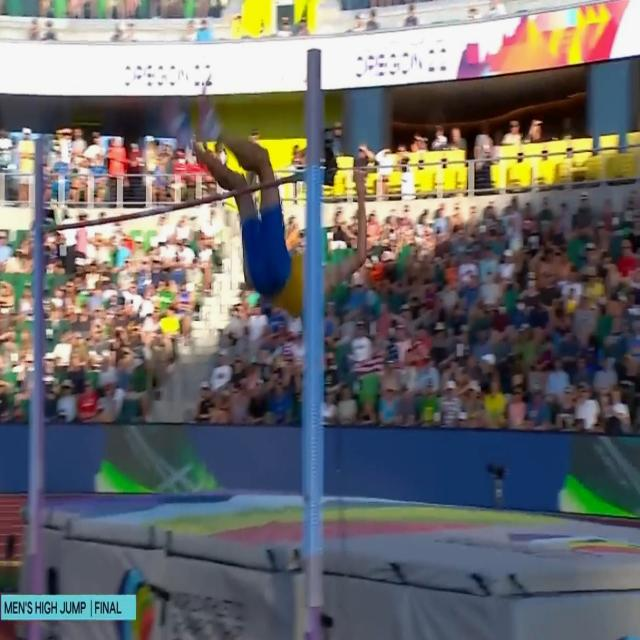land: (186, 118, 368, 316)
